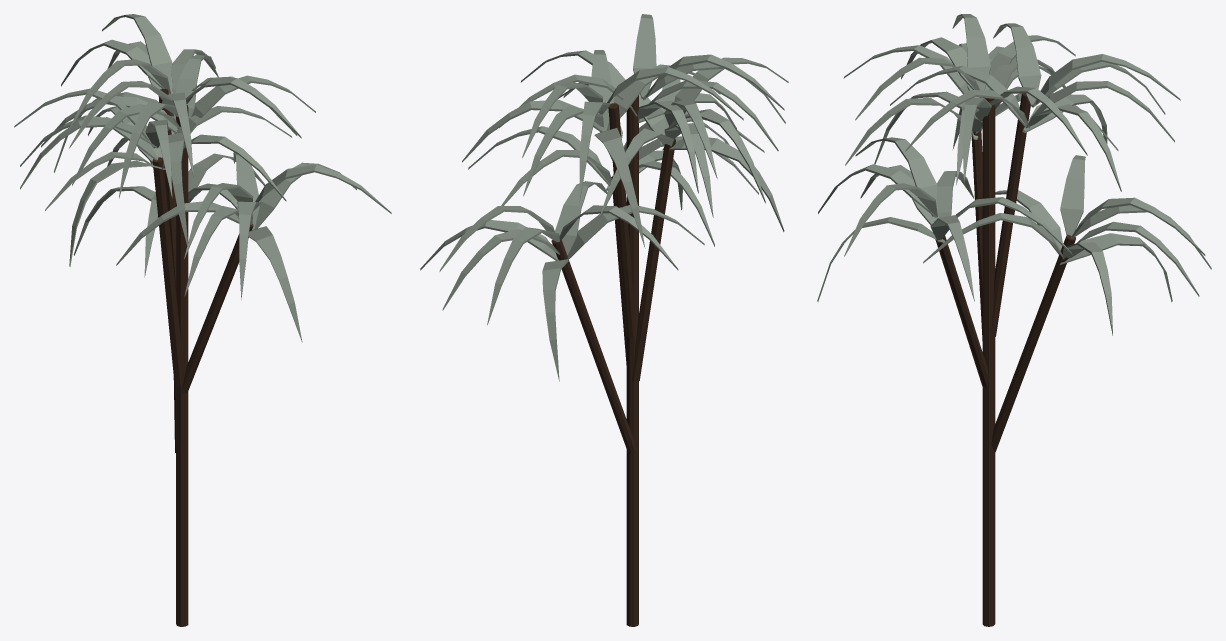
The model's file is Tree2.fbx.
3 renders of one model, left to right at view 1: azimuth 30°, elevation 25°; view 2: azimuth 150°, elevation 25°; view 3: azimuth 270°, elevation 25°, orthographic. The views are drawn at different scales.
Visible parts, largest first — view 1: Cylinder, Cylinder.002, Cylinder.004, Cylinder.039, Cylinder.014, Cylinder.023, Cylinder.041, Cylinder.024, Cylinder.028, Cylinder.016, Cylinder.034, Cylinder.043 (+23 smaller); view 2: Cylinder, Cylinder.002, Cylinder.003, Cylinder.001, Cylinder.018, Cylinder.007, Cylinder.006, Cylinder.025, Cylinder.008, Cylinder.012, Cylinder.021, Cylinder.016 (+25 smaller); view 3: Cylinder, Cylinder.003, Cylinder.001, Cylinder.004, Cylinder.009, Cylinder.016, Cylinder.027, Cylinder.002, Cylinder.043, Cylinder.014, Cylinder.041, Cylinder.015 (+25 smaller).
Part boxes in pixels (x1,y1,x2,y2): Cylinder: [176, 105, 188, 626]; Cylinder.002: [152, 157, 182, 387]; Cylinder.004: [181, 223, 253, 393]; Cylinder.039: [248, 226, 302, 342]; Cylinder.014: [102, 14, 172, 86]; Cylinder.023: [168, 132, 188, 250]; Cylinder.041: [255, 164, 391, 213]; Cylinder.024: [191, 75, 315, 117]; Cylinder.028: [119, 101, 176, 198]; Cylinder.016: [69, 59, 170, 128]; Cylinder.034: [69, 160, 165, 266]; Cylinder.043: [184, 183, 253, 258]; Cylinder: [626, 95, 638, 626]; Cylinder.002: [632, 138, 675, 381]; Cylinder.003: [551, 239, 636, 453]; Cylinder.001: [608, 103, 636, 337]; Cylinder.018: [594, 128, 645, 248]; Cylinder.007: [542, 259, 568, 381]; Cylinder.006: [555, 181, 607, 255]; Cylinder.025: [633, 14, 656, 98]; Cylinder.008: [567, 205, 704, 259]; Cylinder.012: [487, 227, 559, 325]; Cylinder.021: [637, 100, 698, 193]; Cylinder.016: [607, 67, 743, 120]; Cylinder: [982, 97, 995, 626]; Cylinder.003: [991, 234, 1075, 452]; Cylinder.001: [991, 93, 1030, 337]; Cylinder.004: [933, 233, 988, 388]; Cylinder.009: [1060, 155, 1085, 235]; Cylinder.016: [993, 23, 1041, 106]; Cylinder.027: [952, 14, 990, 97]; Cylinder.002: [971, 129, 982, 340]; Cylinder.043: [855, 137, 937, 216]; Cylinder.014: [1035, 54, 1180, 103]; Cylinder.041: [844, 183, 937, 256]; Cylinder.015: [1030, 81, 1174, 142].
Size of the model in its own units: 749 by 1285 by 800.
